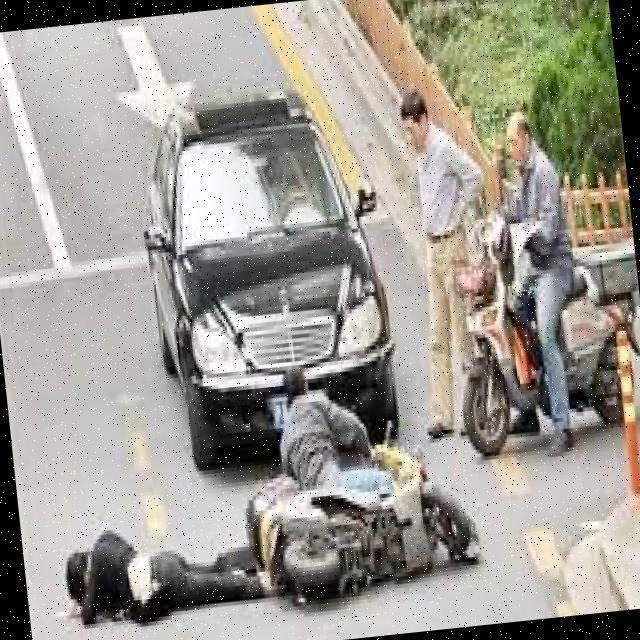accident: (221, 398, 489, 622)
